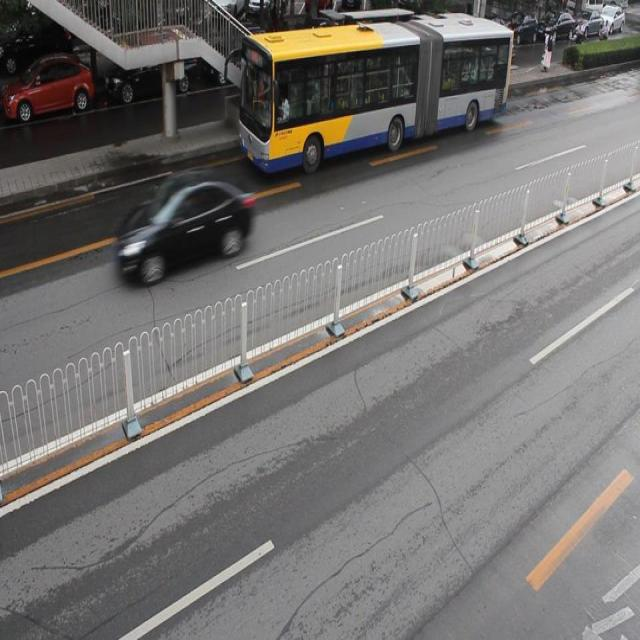car: (114, 170, 250, 284), (1, 53, 92, 120), (103, 39, 194, 98), (205, 24, 270, 86), (288, 23, 356, 78)
van: (239, 10, 511, 170)
